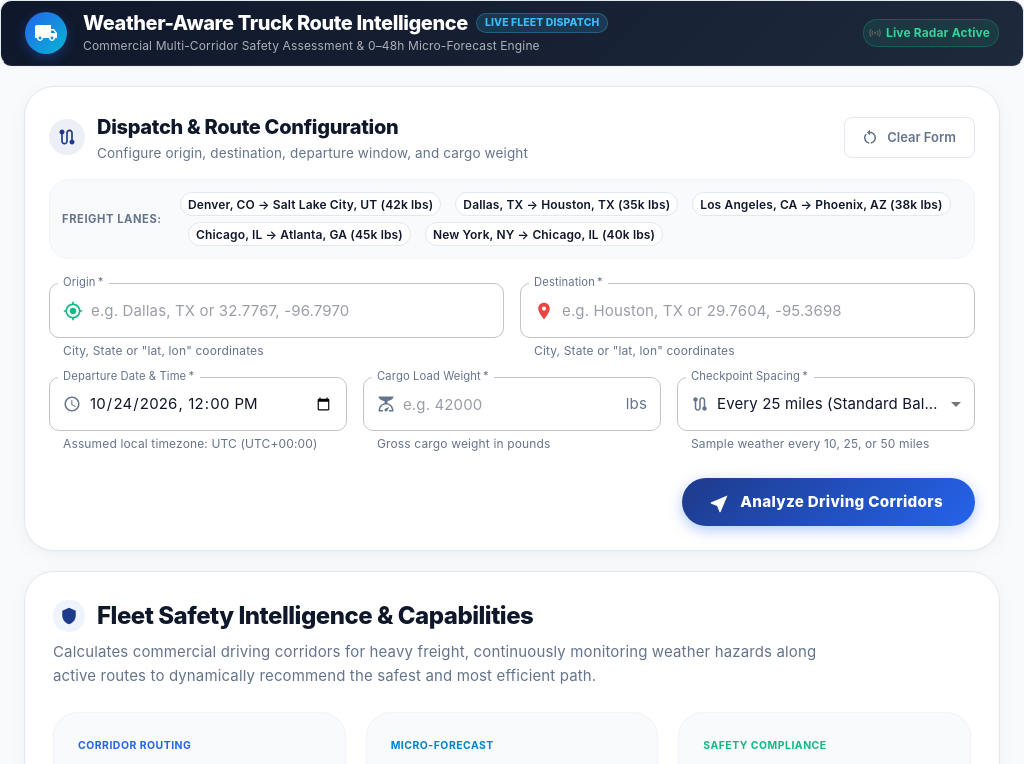
App component › submits trip form and renders route comparison cards with recommendation
The width and height of the screenshot is (1024, 764).
Click the button "Denver, CO → Salt Lake City, UT (42k lbs)".
click(311, 204)  # box x1=180 y1=192 x2=441 y2=216
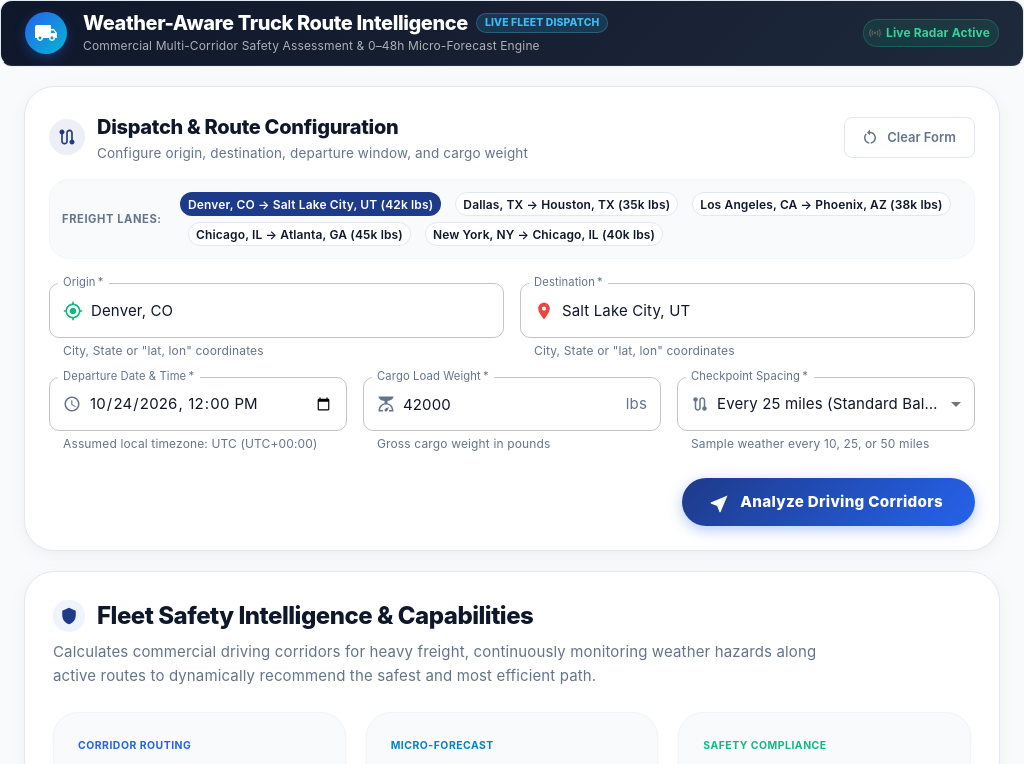
Click the button "Analyze Driving Corridors".
click(829, 502)  # box x1=682 y1=478 x2=975 y2=526
(page scrolled)
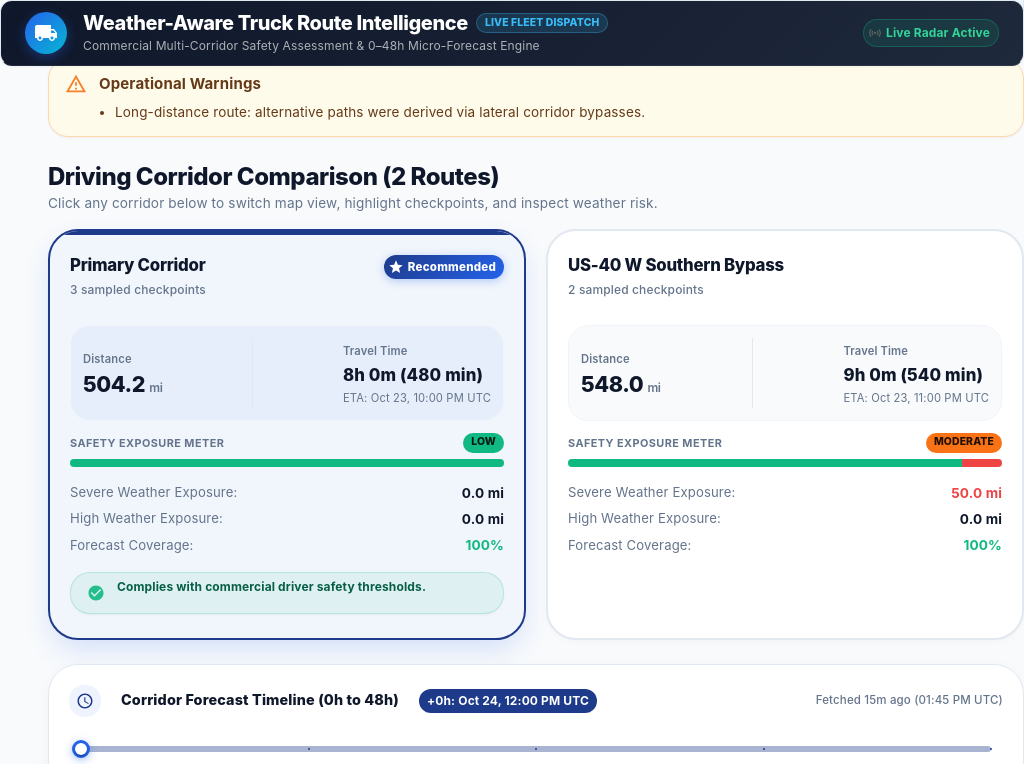
Expected: the heading "Driving Corridor Comparison (2 Routes)" is shown, x1=48 y1=162 x2=499 y2=191
Expected: the text "504.2" is shown, x1=83 y1=371 x2=145 y2=397
Expected: the text "548.0" is shown, x1=581 y1=371 x2=643 y2=397
